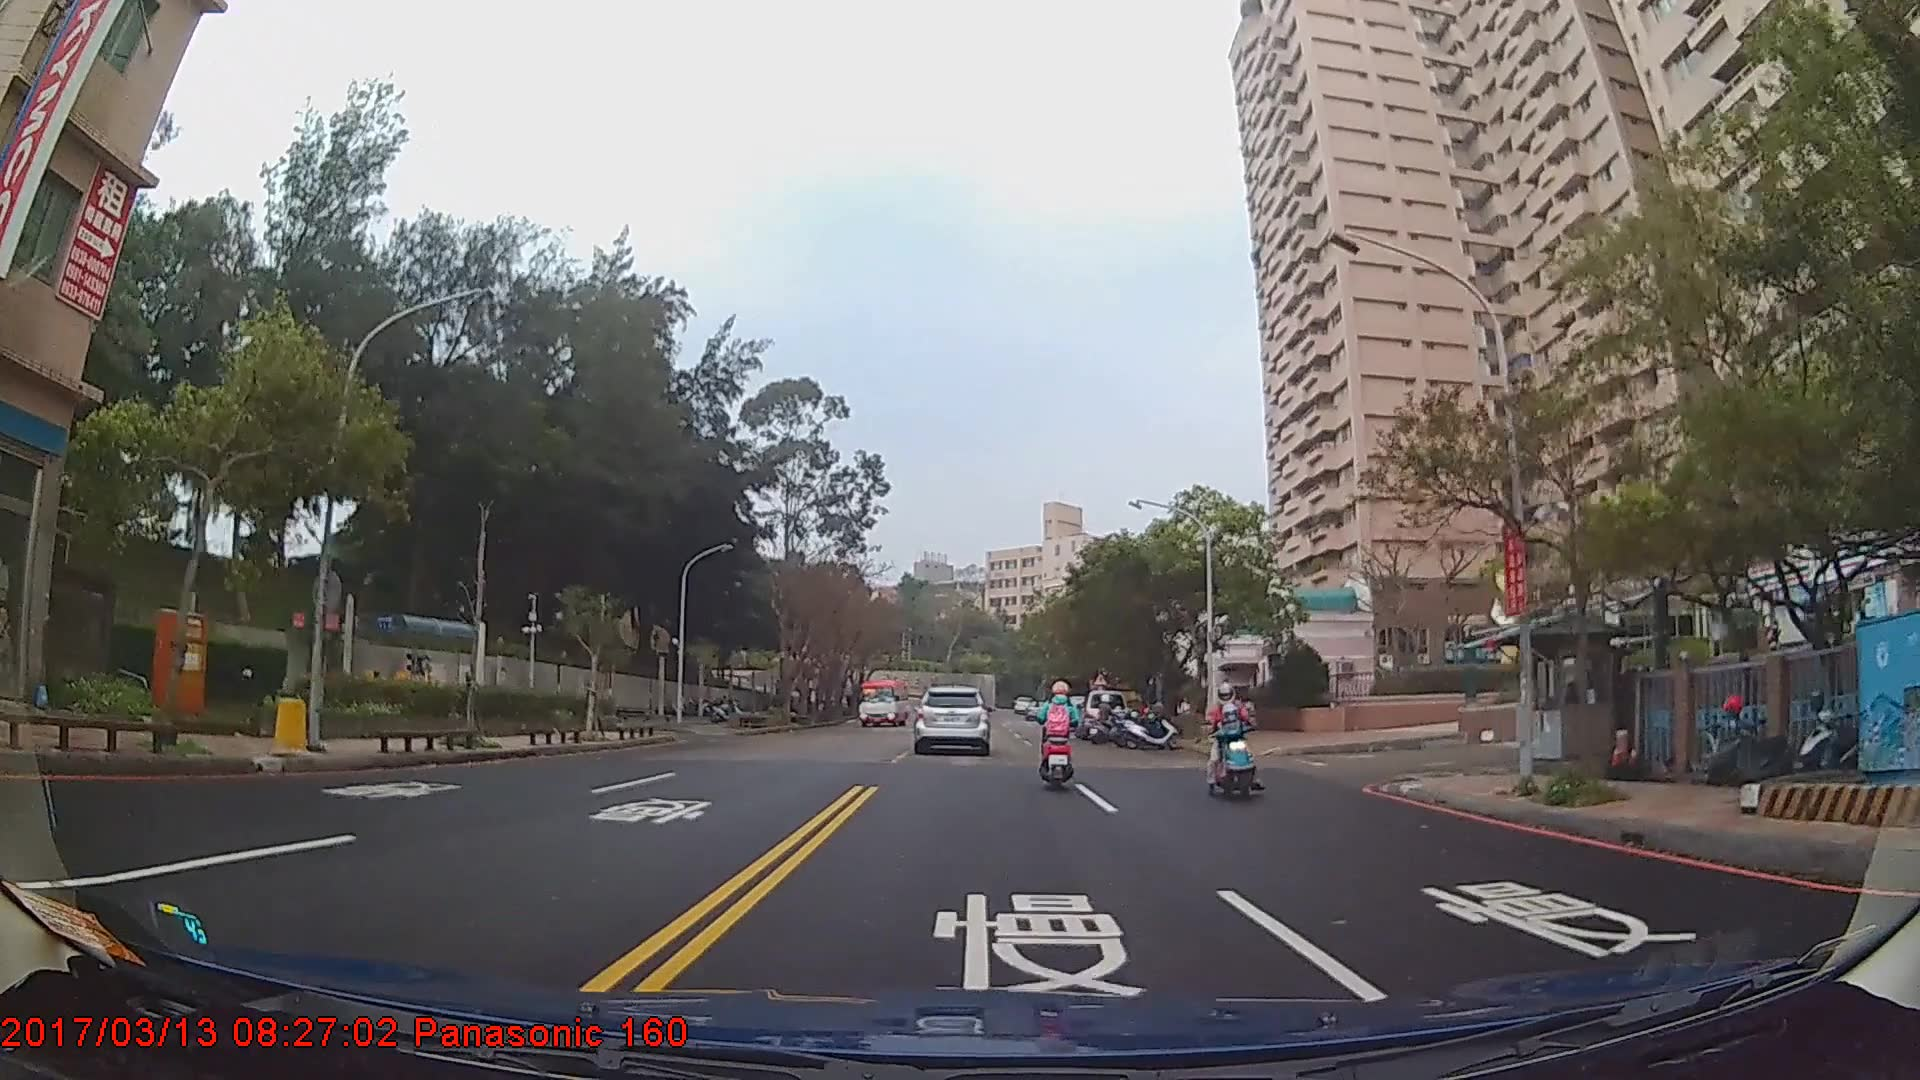rider: (1205, 685, 1260, 801), (1036, 679, 1079, 793), (1089, 695, 1125, 745)
vehicle: (912, 685, 989, 756), (860, 677, 910, 729), (1078, 688, 1129, 739)
